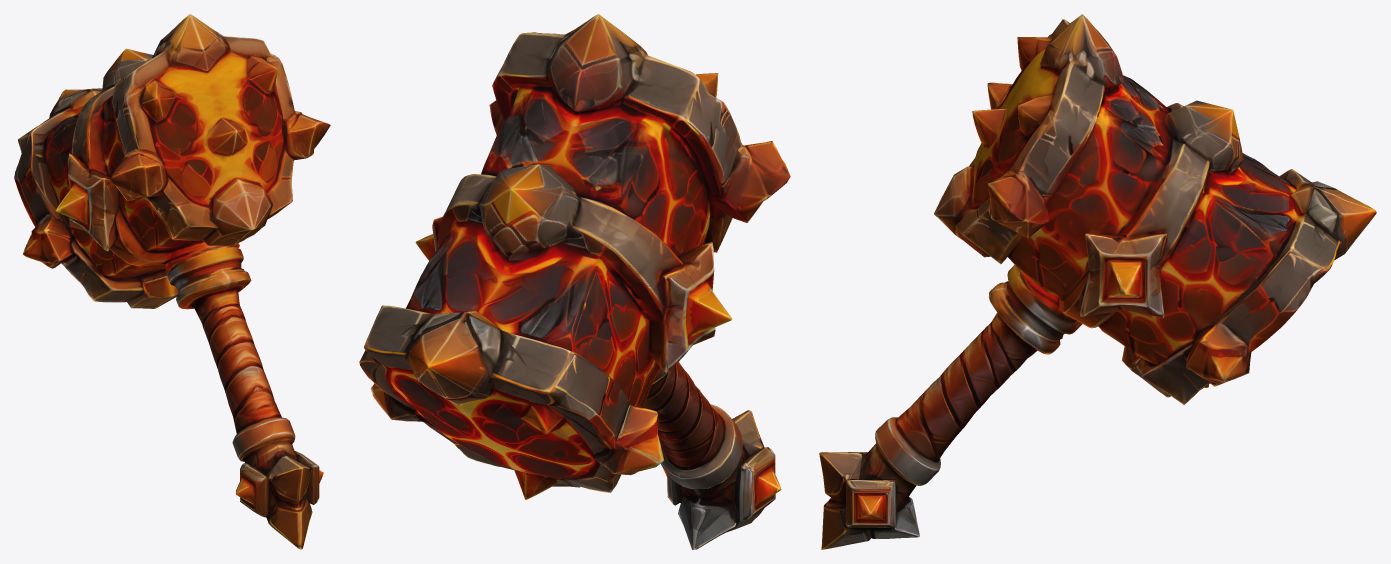
Rendered from Marteau rouge.glb.
3 views of the same model, side by side, from view 1: azimuth 30°, elevation 25°; view 2: azimuth 150°, elevation 25°; view 3: azimuth 270°, elevation 25° (orthographic). The views are drawn at different scales.
Parts seen in each view (by area): view 1: tripo_node_7b6a6bb9-311b-4559-b787-9c4c6ab0f67e; view 2: tripo_node_7b6a6bb9-311b-4559-b787-9c4c6ab0f67e; view 3: tripo_node_7b6a6bb9-311b-4559-b787-9c4c6ab0f67e.
Part boxes in pixels (left/top/right/bottom): tripo_node_7b6a6bb9-311b-4559-b787-9c4c6ab0f67e: left=14, top=14, right=330, bottom=549; tripo_node_7b6a6bb9-311b-4559-b787-9c4c6ab0f67e: left=359, top=14, right=790, bottom=549; tripo_node_7b6a6bb9-311b-4559-b787-9c4c6ab0f67e: left=819, top=14, right=1376, bottom=549.
Bounding box in the file's own units: 0.5353 × 1 × 0.9457.
Materials: 1 (1 with a texture image).
